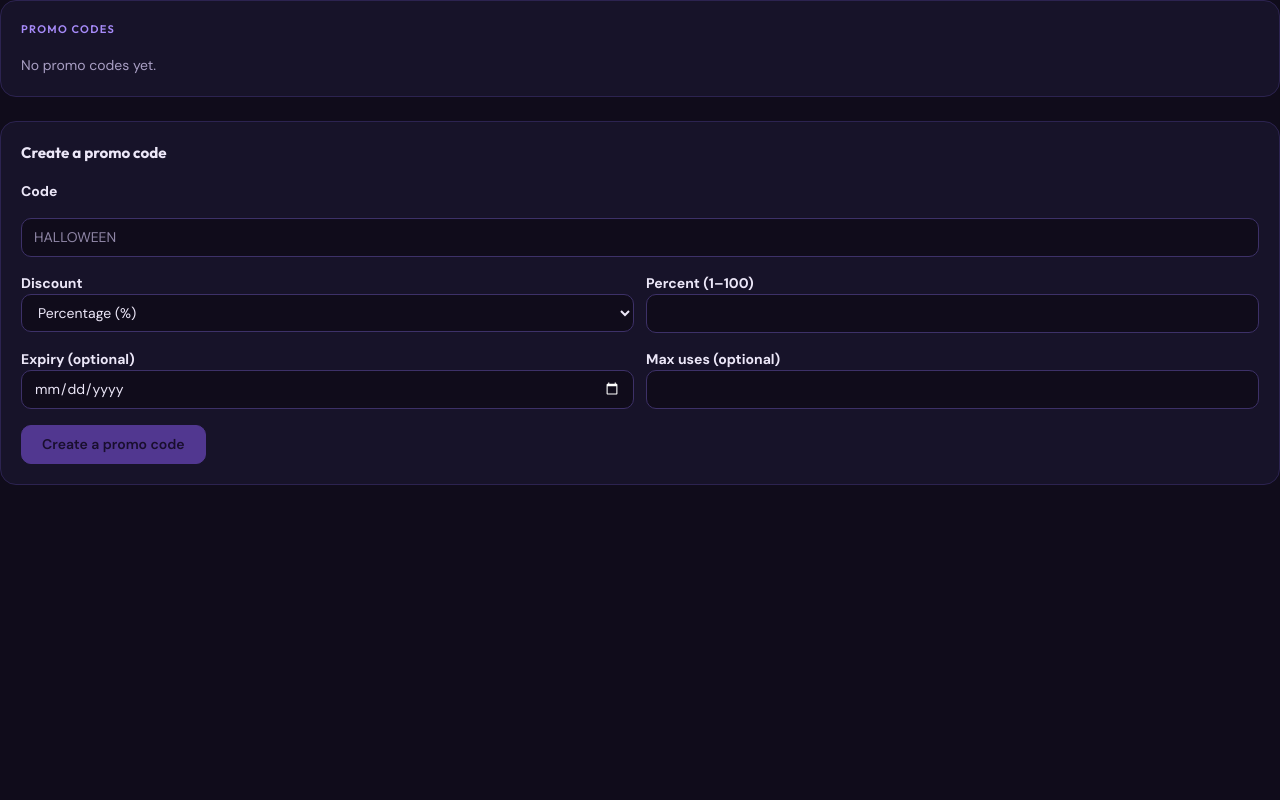
Test: AdminPromos › shows a create failure
This screenshot has width=1280, height=800.
Check: the text "No promo codes yet." is shown, box [21,56,156,74]
Step 1. Type "DUP" into the field labelled "Code" → x=640, y=237, box [21,218,1259,257]
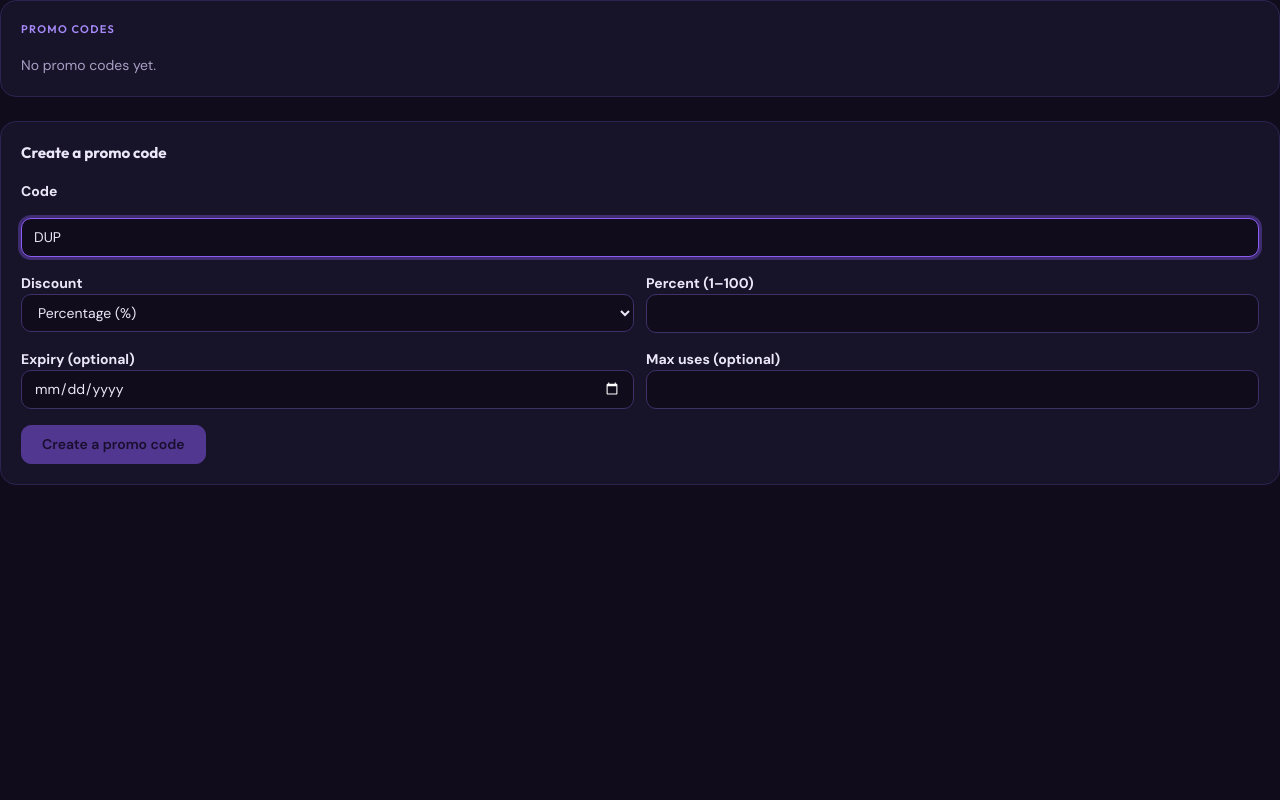
Step 2. Type "25" into the field labelled "Percent (1–100)" → x=952, y=313, box [646,294,1259,333]
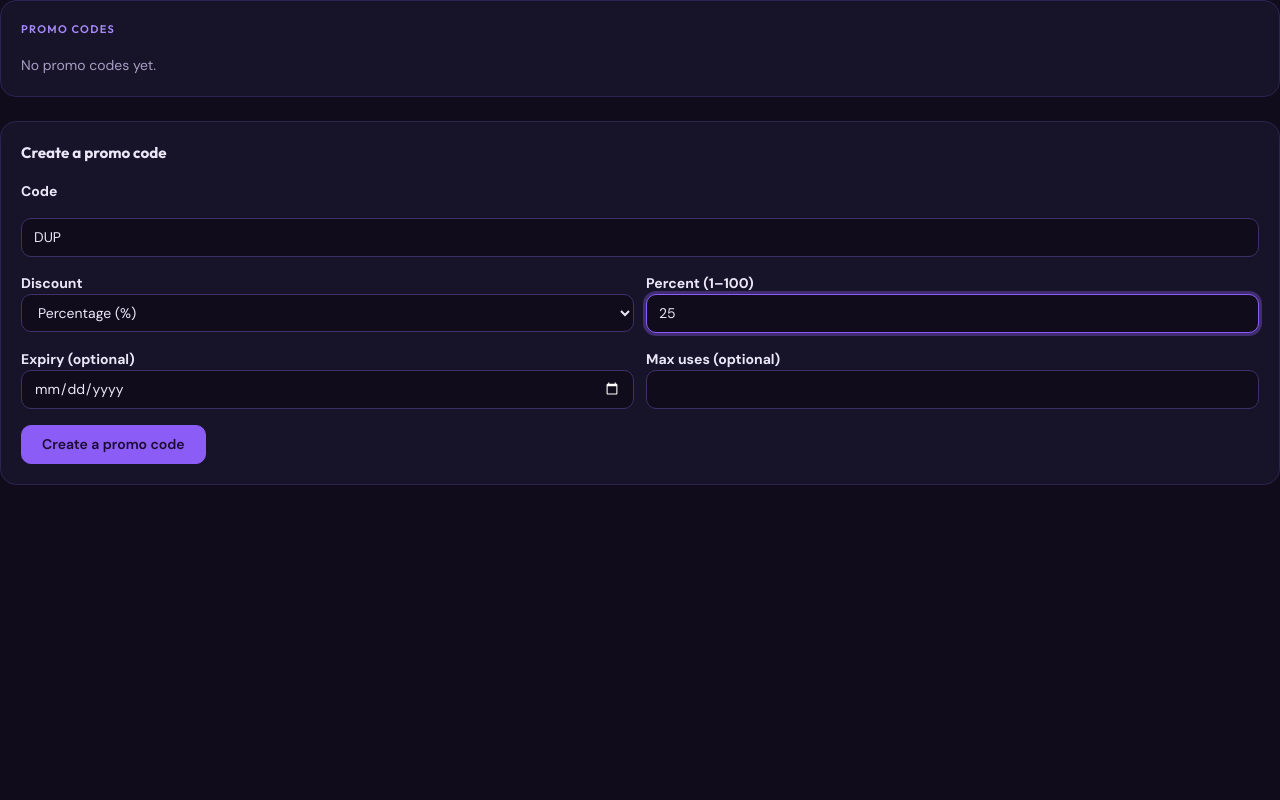
Step 3. Click the button "Create a promo code" → x=113, y=444, box [21,425,206,464]
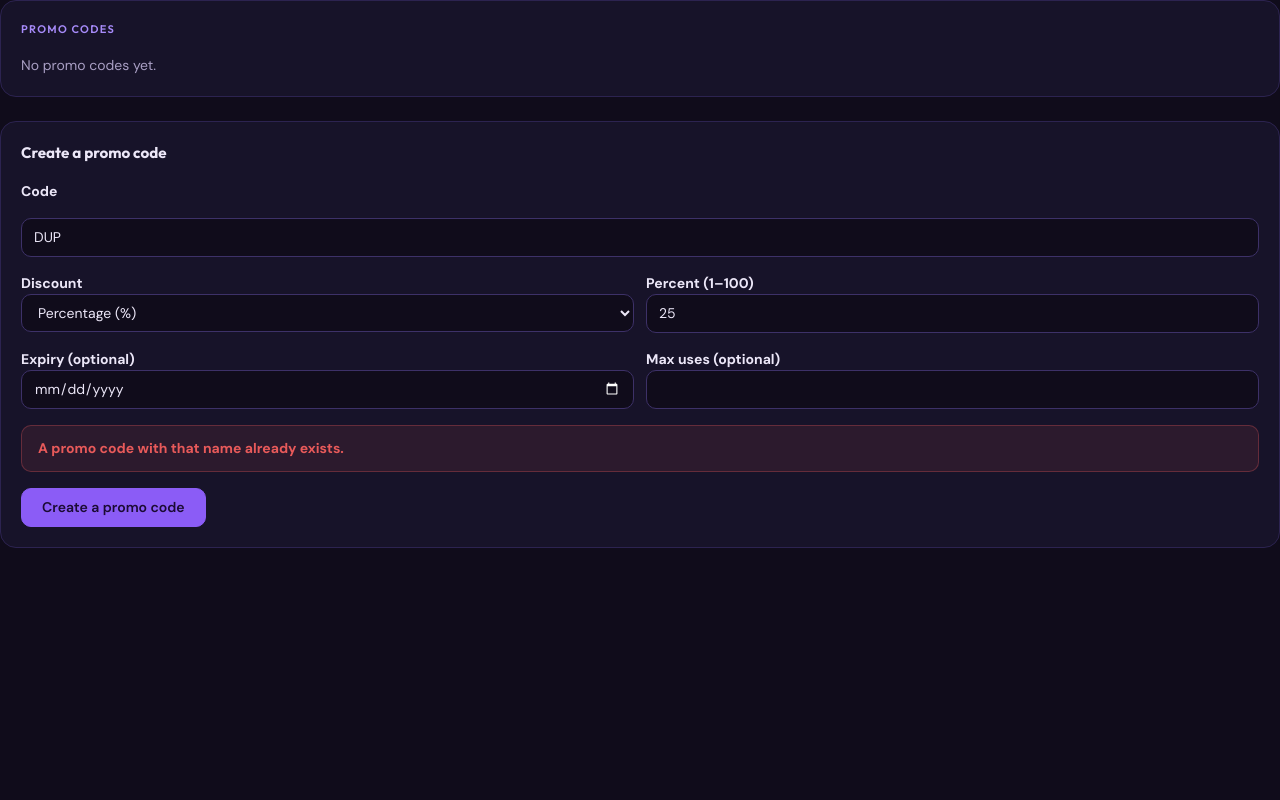
Check: the text "A promo code with that name already exists." is shown, box [21,425,1259,472]
